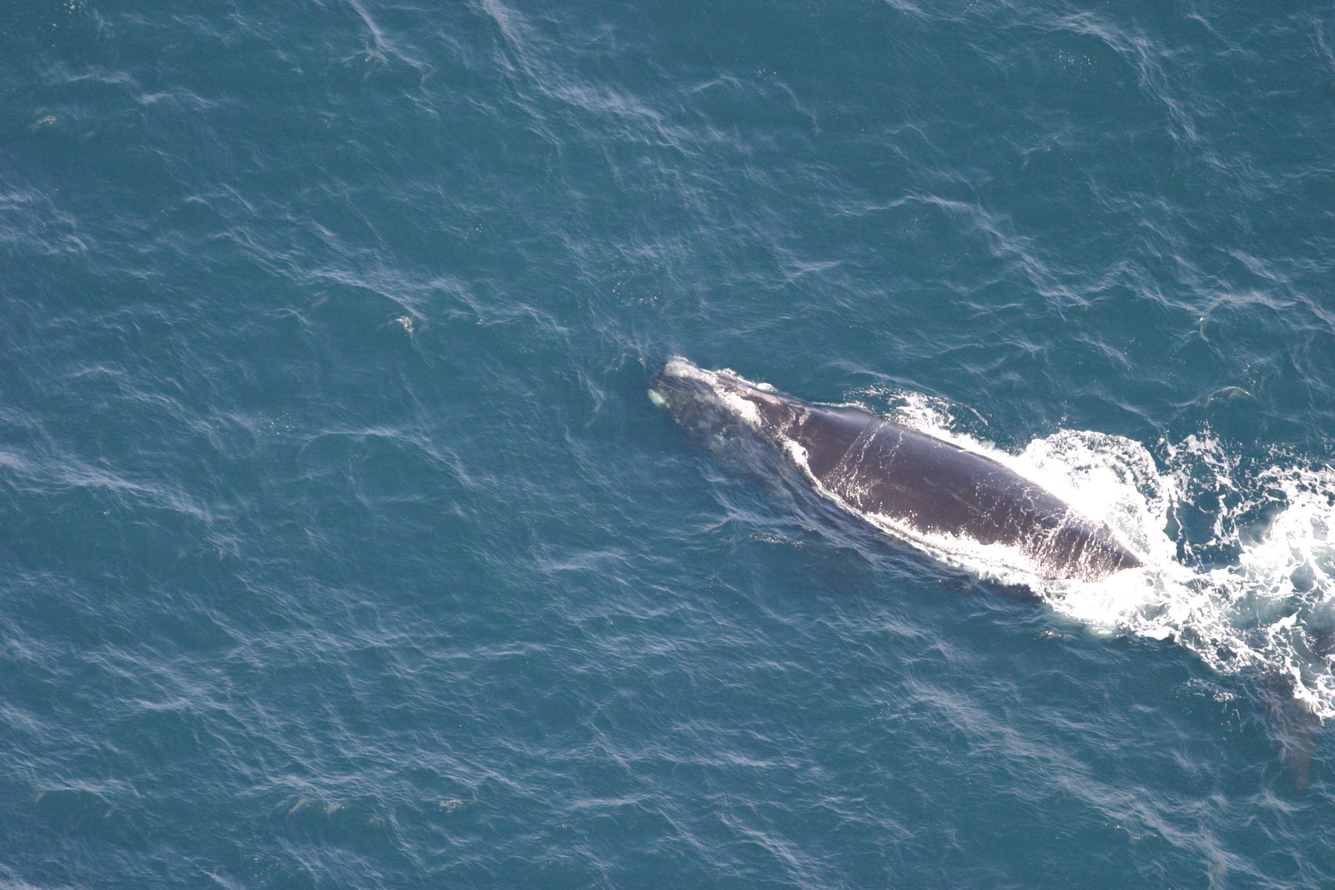whale: (642, 349, 1335, 700)
